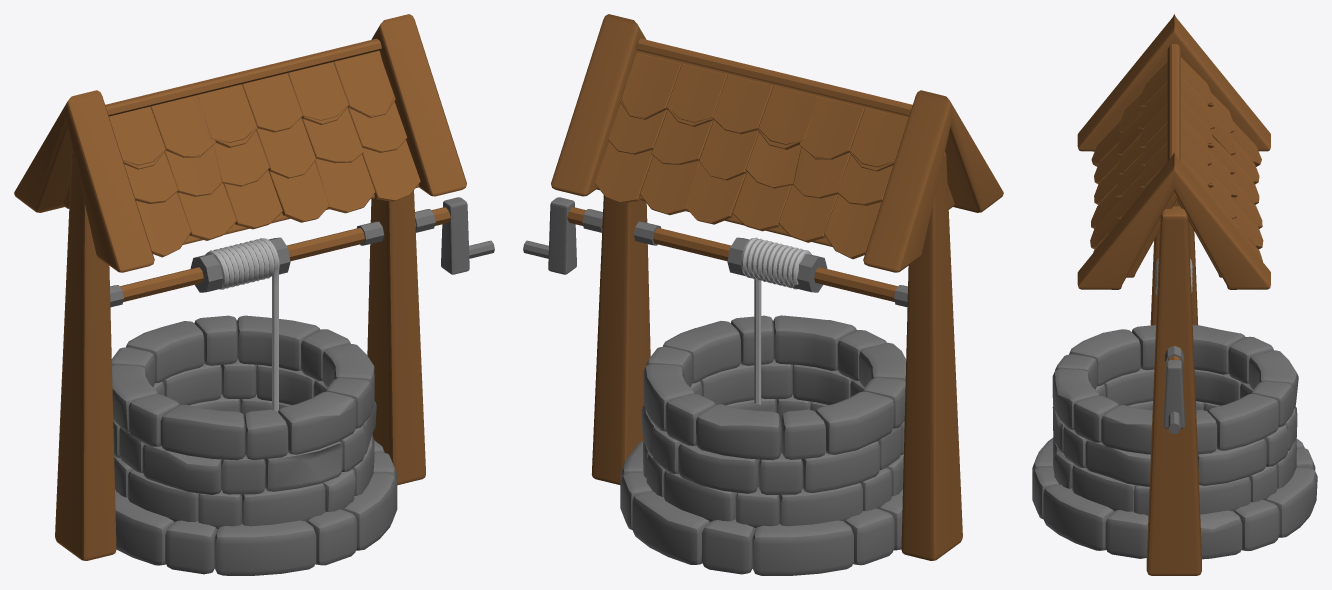
File: Well.fbx
The picture shows the model from 3 angles, left to right: view 1: azimuth 30°, elevation 25°; view 2: azimuth 150°, elevation 25°; view 3: azimuth 270°, elevation 25°; orthographic projection. The views are drawn at different scales.
Parts seen in each view (by area): view 1: polySurface308; view 2: polySurface308; view 3: polySurface308.
Boxes of the visible parts, x1,y1,x2,y2 form: polySurface308: (14, 14, 494, 575); polySurface308: (523, 14, 1003, 575); polySurface308: (1032, 14, 1317, 575).
Bounding box in the file's own units: 13.27 × 14.49 × 8.5.
